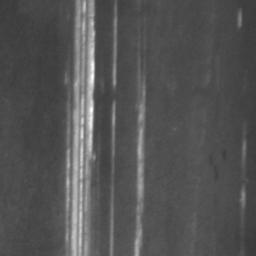Bright scratch: (64, 0, 96, 256), (134, 76, 147, 256), (110, 102, 116, 256), (113, 0, 119, 90)
